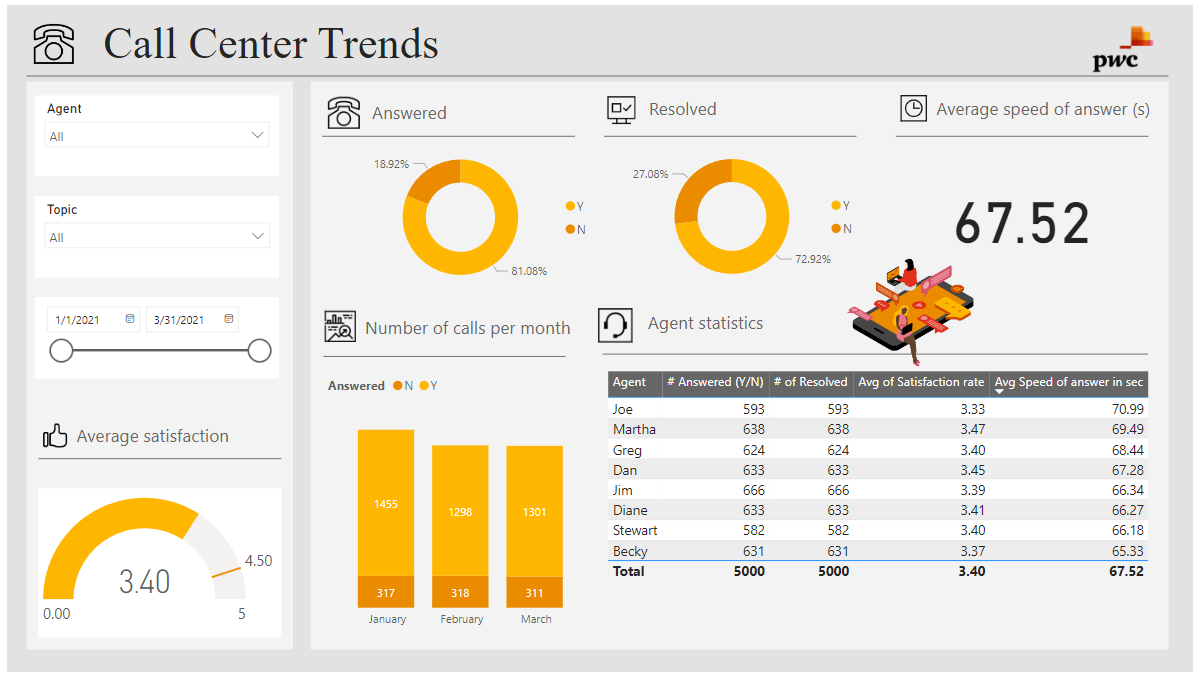

Layout of this report page (visuals, bound fields, positions):
{"tool":"powerbi","page":{"name":"Page 1","canvas":[1280,720],"ordinal":0},"visuals":[{"type":"shape","box":[21.4,82.9,287.1,612.9],"z":0},{"type":"shape","box":[327.1,82.9,925.7,612.9],"z":1000},{"type":"gauge","title":"Average satisfaction","fields":{"Y":["Avg(Call Center.Satisfaction rating)"],"TargetValue":["Call Center.Target Value Satisfaction"],"MaxValue":["Max(Call Center.Satisfaction rating)"]},"box":[33.8,521.2,262.5,161.2],"z":2000},{"type":"card","fields":{"Values":["Avg(Call Center.Speed of answer in seconds)"]},"box":[984.3,130,221.4,191.4],"z":3000},{"type":"donutChart","fields":{"Category":["Call Center.Answered (Y/N)"],"Y":["CountNonNull(Call Center.Answered (Y/N))"]},"box":[371.7,136.7,268.3,185],"z":4000},{"type":"donutChart","fields":{"Category":["Call Center.Resolved"],"Y":["CountNonNull(Call Center.Resolved)"]},"box":[670,133.3,256.7,188.3],"z":5000},{"type":"columnChart","fields":{"Category":["Call Center.Date.Variation.Date Hierarchy.Month"],"Y":["CountNonNull(Call Center.Call Id)"],"Series":["Call Center.Answered (Y/N)"]},"box":[341.4,390,298.6,290],"z":6000},{"type":"tableEx","fields":{"Values":["Call Center.Agent","Call Center.Answered (Y/N)","Call Center.Resolved","Avg(Call Center.Satisfaction rating)","Avg(Call Center.Speed of answer in seconds)"]},"box":[642.9,390,601.4,251.4],"z":7000},{"type":"slicer","fields":{"Values":["Call Center.Agent"]},"box":[30,97,263,87],"z":8000},{"type":"slicer","fields":{"Values":["Call Center.Topic"]},"box":[30,206.7,263.3,88.3],"z":9000},{"type":"slicer","fields":{"Values":["Call Center.Date"]},"box":[30,315,263.3,88.3],"z":10000},{"type":"shape","box":[33.8,466.2,262.5,46.2],"z":11000},{"type":"textbox","box":[70,445.7,182.9,40],"z":12000},{"type":"shape","box":[341.4,355.7,261.4,45.7],"z":13000},{"type":"textbox","box":[381.1,330,268.9,43.3],"z":14000},{"type":"shape","box":[642.9,354.3,588.6,45.7],"z":15000},{"type":"textbox","box":[686.7,324.4,267.8,42.2],"z":16000},{"type":"shape","box":[958.6,118.6,272.9,45.7],"z":17000},{"type":"textbox","box":[997.1,94.3,267.1,40],"z":18000},{"type":"shape","box":[643.5,118.6,272.9,45.7],"z":19000},{"type":"textbox","box":[687.1,94.3,92.9,40],"z":20000},{"type":"shape","box":[340.6,118.6,272.9,45.7],"z":21000},{"type":"textbox","box":[388.6,97.1,104.3,42.9],"z":22000},{"type":"image","box":[958.6,82.9,38.6,58.6],"z":23000},{"type":"image","box":[642.9,88.6,40,50],"z":24000},{"type":"image","box":[337.1,94.3,51.4,44.3],"z":25000},{"type":"image","box":[844.3,230,280,187.1],"z":26000},{"type":"shape","box":[21.4,54.3,1231.4,45.7],"z":27000},{"type":"image","box":[1129,0,151,94.5],"z":28000},{"type":"image","box":[24.1,7.7,53.1,68.5],"z":29000},{"type":"textbox","box":[98.6,7.1,417.1,82.9],"z":30000},{"type":"image","box":[34,446,36,36],"z":31000},{"type":"image","box":[632.8,317.3,46.9,55.8],"z":32000},{"type":"image","box":[338,312.8,43.6,69.2],"z":33000}]}

Visuals, with their boxes in screenshot pixels (x1, y1, x2, y2), scaled from the page's 1280x720 canvas onto the 1197x677 screenshot:
shape: left=20, top=78, right=288, bottom=654
shape: left=306, top=78, right=1172, bottom=654
"Average satisfaction" gauge: left=32, top=490, right=277, bottom=642
card - Avg(Call Center.Speed of answer in seconds): left=920, top=122, right=1128, bottom=302
donutChart - Call Center.Answered (Y/N) x CountNonNull(Call Center.Answered (Y/N)): left=348, top=129, right=598, bottom=302
donutChart - Call Center.Resolved x CountNonNull(Call Center.Resolved): left=627, top=125, right=867, bottom=302
columnChart - Call Center.Date.Variation.Date Hierarchy.Month x CountNonNull(Call Center.Call Id): left=319, top=367, right=598, bottom=639
tableEx - Call Center.Agent x Call Center.Answered (Y/N): left=601, top=367, right=1164, bottom=603
slicer - Call Center.Agent: left=28, top=91, right=274, bottom=173
slicer - Call Center.Topic: left=28, top=194, right=274, bottom=277
slicer - Call Center.Date: left=28, top=296, right=274, bottom=379
shape: left=32, top=438, right=277, bottom=482
textbox: left=65, top=419, right=237, bottom=457
shape: left=319, top=334, right=564, bottom=377
textbox: left=356, top=310, right=608, bottom=351
shape: left=601, top=333, right=1152, bottom=376
textbox: left=642, top=305, right=893, bottom=345
shape: left=896, top=112, right=1152, bottom=154
textbox: left=932, top=89, right=1182, bottom=126
shape: left=602, top=112, right=857, bottom=154
textbox: left=643, top=89, right=729, bottom=126
shape: left=319, top=112, right=574, bottom=154
textbox: left=363, top=91, right=461, bottom=132
image: left=896, top=78, right=933, bottom=133
image: left=601, top=83, right=639, bottom=130
image: left=315, top=89, right=363, bottom=130
image: left=790, top=216, right=1051, bottom=392
shape: left=20, top=51, right=1172, bottom=94
image: left=1056, top=0, right=1196, bottom=89
image: left=23, top=7, right=72, bottom=72
textbox: left=92, top=7, right=482, bottom=85
image: left=32, top=419, right=65, bottom=453
image: left=592, top=298, right=636, bottom=351
image: left=316, top=294, right=357, bottom=359
